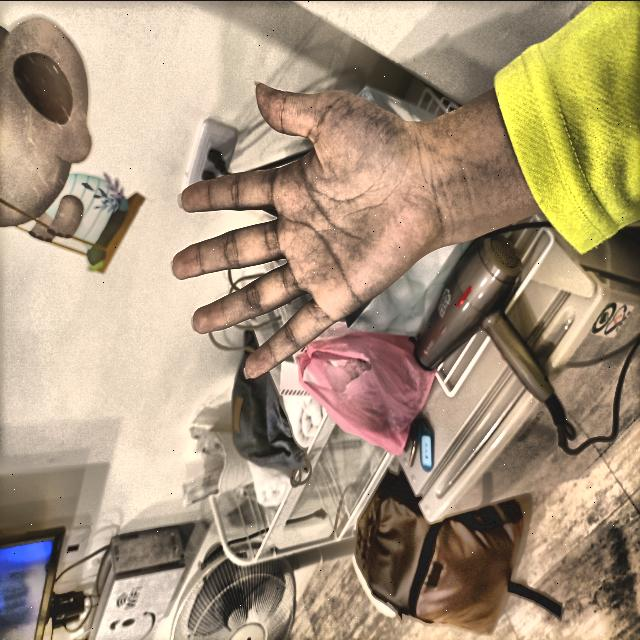not-gloved: (159, 72, 460, 383)
